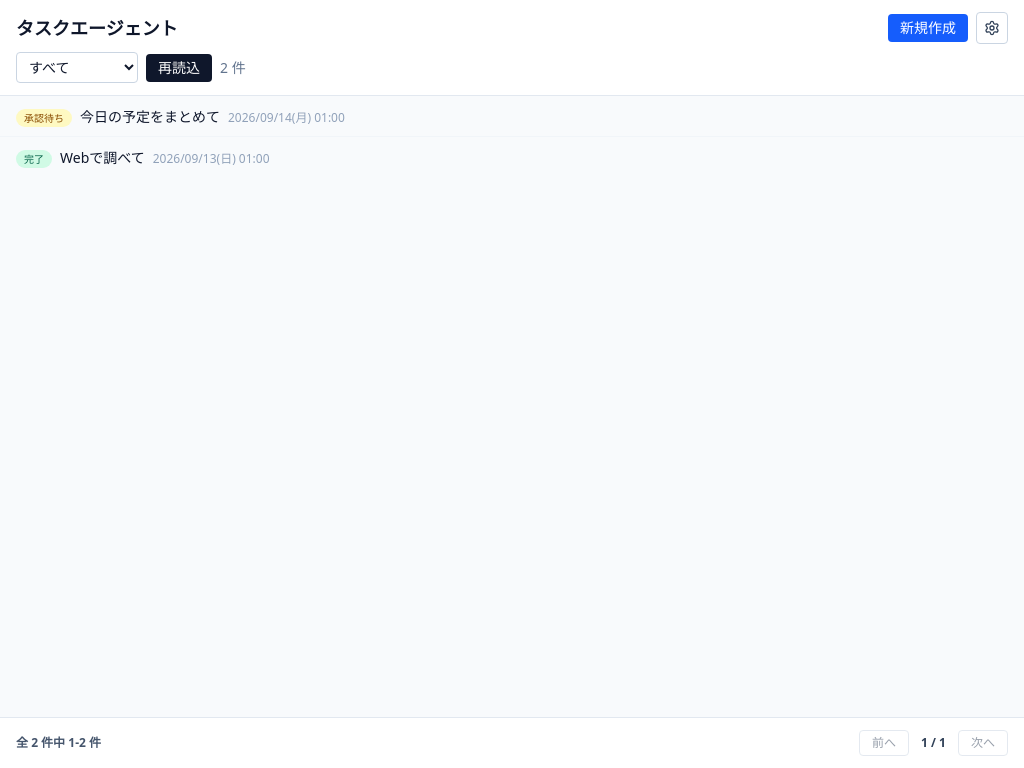
it: TaskAgentListPage › filters by status via the server param
This screenshot has width=1024, height=768.
Expected: the text "今日の予定をまとめて" is shown, [80,107,220,126]
Select "受付済み" in the dropdown named "ステータスフィルター" at (77, 68), box [16,52,138,83]
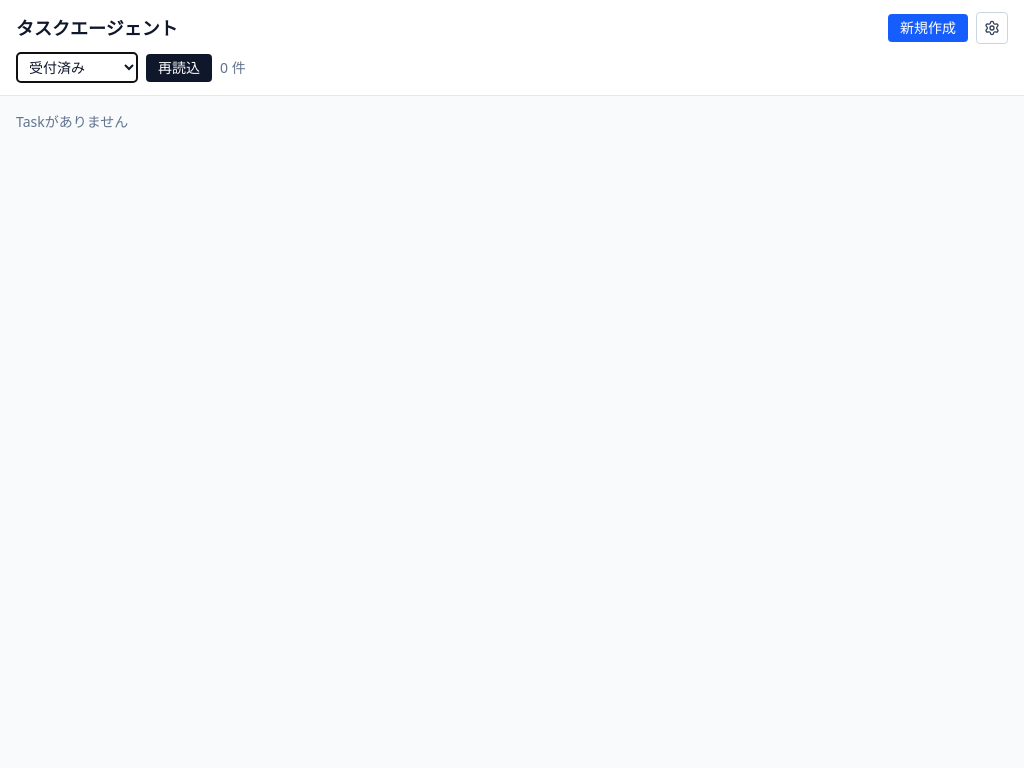
Result: the link with test id "task-agent-row" is gone
Select "完了" in the dropdown named "ステータスフィルター" at (77, 68), box [16,52,138,83]
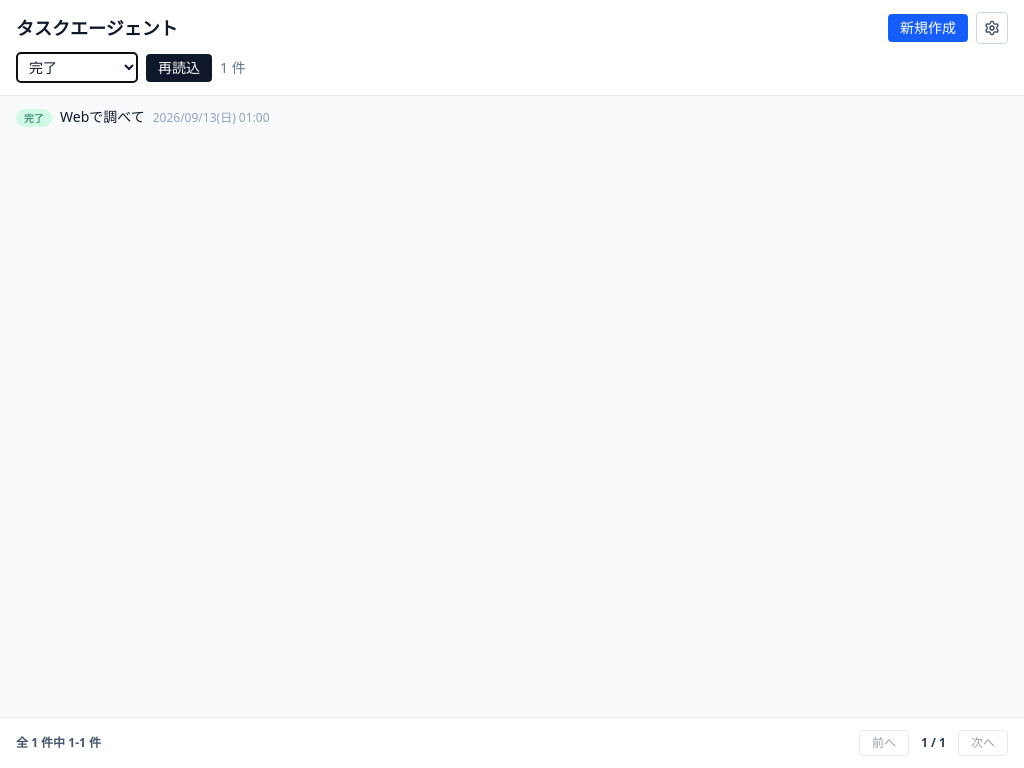
Result: the number of links with test id "task-agent-row" is 1 at [16,107,270,127]
Result: the text "Webで調べて" is shown at [60,107,145,126]
